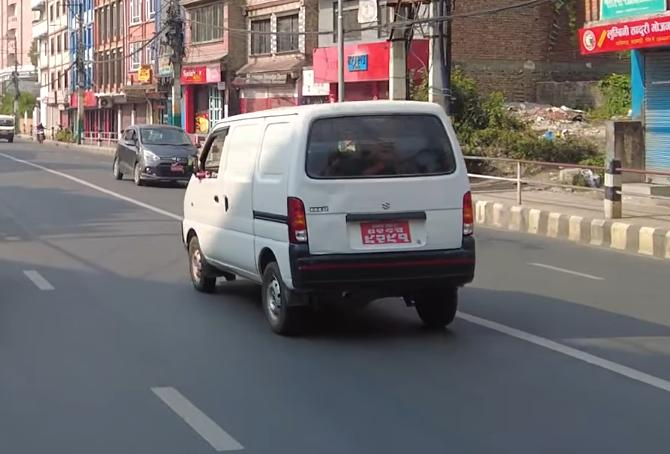car: (112, 120, 199, 188)
van: (175, 93, 478, 336)
